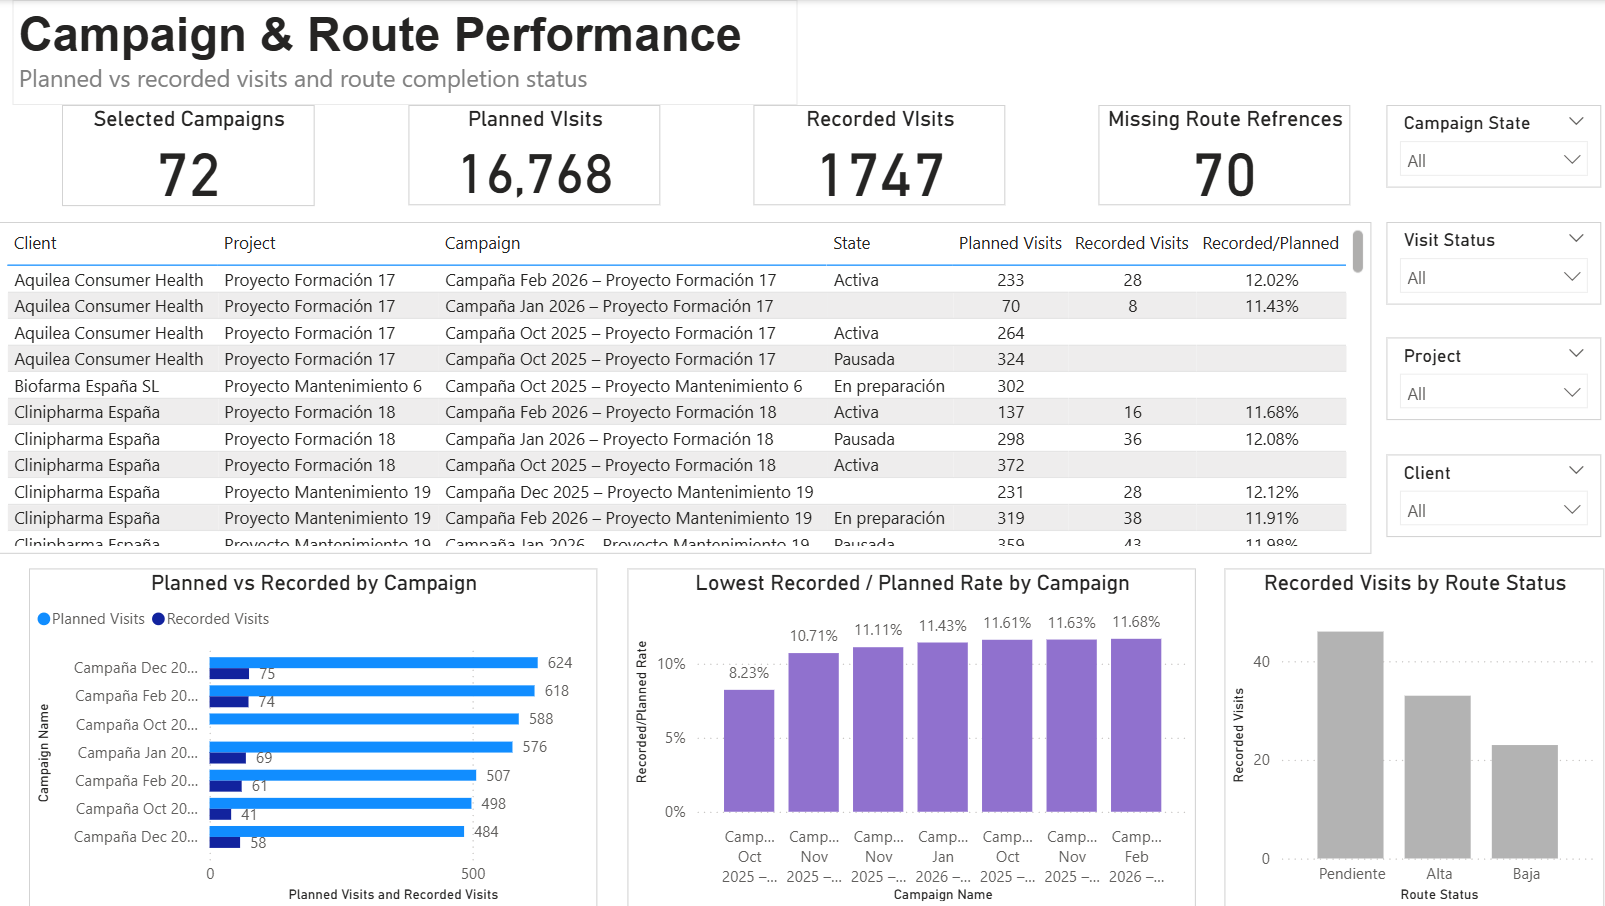

What the dashboard file says about the page in this screenshot:
{"tool":"powerbi","page":{"name":"Campaign Performance","canvas":[1280,720],"ordinal":1},"visuals":[{"type":"textbox","box":[10.7,0,621.2,83.1],"z":0},{"type":"slicer","fields":{"Values":["dim_clients.client_name"]},"box":[1098.9,359.9,170,65.3],"z":1000},{"type":"slicer","fields":{"Values":["dim_projects.project_name"]},"box":[1098.9,267.6,170,65.3],"z":2000},{"type":"slicer","fields":{"Values":["dim_campaigns.campaign_state"]},"box":[1098.9,83.1,170,65.3],"z":3000},{"type":"slicer","fields":{"Values":["fct_visits.visit_status"]},"box":[1098.9,175.4,170,65.3],"z":4000},{"type":"card","title":"Planned VIsits","fields":{"Values":["_Measures.Planned Visits"]},"box":[323.8,83.1,199.5,79.6],"z":5000},{"type":"card","title":"Recorded VIsits","fields":{"Values":["_Measures.Recorded Visits"]},"box":[597.2,83.1,199.5,79.6],"z":6000},{"type":"card","title":"Selected Campaigns","fields":{"Values":["_Measures.Total Campaigns"]},"box":[49.9,83.1,200,80],"z":7000},{"type":"tableEx","fields":{"Values":["dim_clients.client_name","dim_projects.project_name","dim_campaigns.campaign_name","dim_campaigns.campaign_state","_Measures.Planned Visits","_Measures.Recorded Visits","_Measures.Recorded/Planned Rate"]},"box":[0,175.8,1086.8,262.5],"z":8000},{"type":"clusteredBarChart","title":"Planned vs Recorded by Campaign","fields":{"Category":["dim_campaigns.campaign_name"],"Y":["_Measures.Planned Visits","_Measures.Recorded Visits"]},"box":[23.8,450.2,450.2,269.6],"z":9000},{"type":"clusteredColumnChart","title":"Lowest Recorded / Planned Rate by Campaign","fields":{"Category":["dim_campaigns.campaign_name"],"Y":["_Measures.Recorded/Planned Rate"]},"box":[497.1,450.2,450.2,269.6],"z":10000},{"type":"clusteredColumnChart","title":"Recorded Visits by Route Status","fields":{"Y":["_Measures.Recorded Visits"],"Category":["dim_routes.route_status"]},"box":[970.4,450.2,300.5,269.6],"z":11000},{"type":"card","title":"Missing Route Refrences","fields":{"Values":["_Measures.Missing Route Reference Visits"]},"box":[870.6,83.1,199.5,79.6],"z":12000}]}

Visuals, with their boxes in screenshot pixels (x1, y1, x2, y2), scaled from the page's 1280x720 canvas onto the 1605x906 screenshot:
textbox: [13, 0, 792, 105]
slicer - dim_clients.client_name: [1378, 453, 1591, 535]
slicer - dim_projects.project_name: [1378, 337, 1591, 419]
slicer - dim_campaigns.campaign_state: [1378, 105, 1591, 187]
slicer - fct_visits.visit_status: [1378, 221, 1591, 303]
"Planned VIsits" card: [406, 105, 656, 205]
"Recorded VIsits" card: [749, 105, 999, 205]
"Selected Campaigns" card: [63, 105, 313, 205]
tableEx - dim_clients.client_name x dim_projects.project_name: [0, 221, 1363, 552]
"Planned vs Recorded by Campaign" clusteredBarChart: [30, 567, 594, 905]
"Lowest Recorded / Planned Rate by Campaign" clusteredColumnChart: [623, 567, 1188, 905]
"Recorded Visits by Route Status" clusteredColumnChart: [1217, 567, 1594, 905]
"Missing Route Refrences" card: [1092, 105, 1342, 205]
